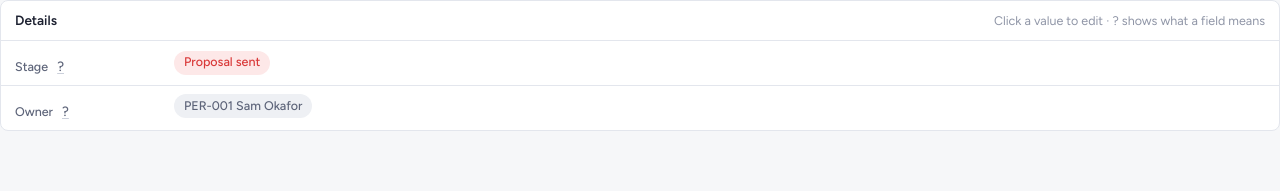
Test: DetailsCard › gives every field its own gloss toggle, opening to that field's own description
Step 1. Click the button with test id "gloss-toggle-owner" → (65, 111), box [56,100,75,122]
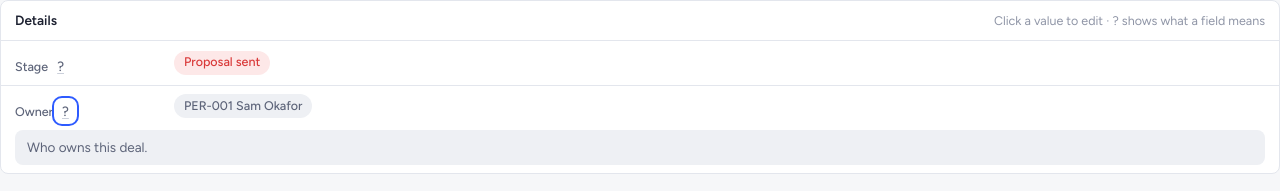
Now the text with test id "gloss-panel-owner" reads "Who owns this deal.", box [27,139,147,155]
